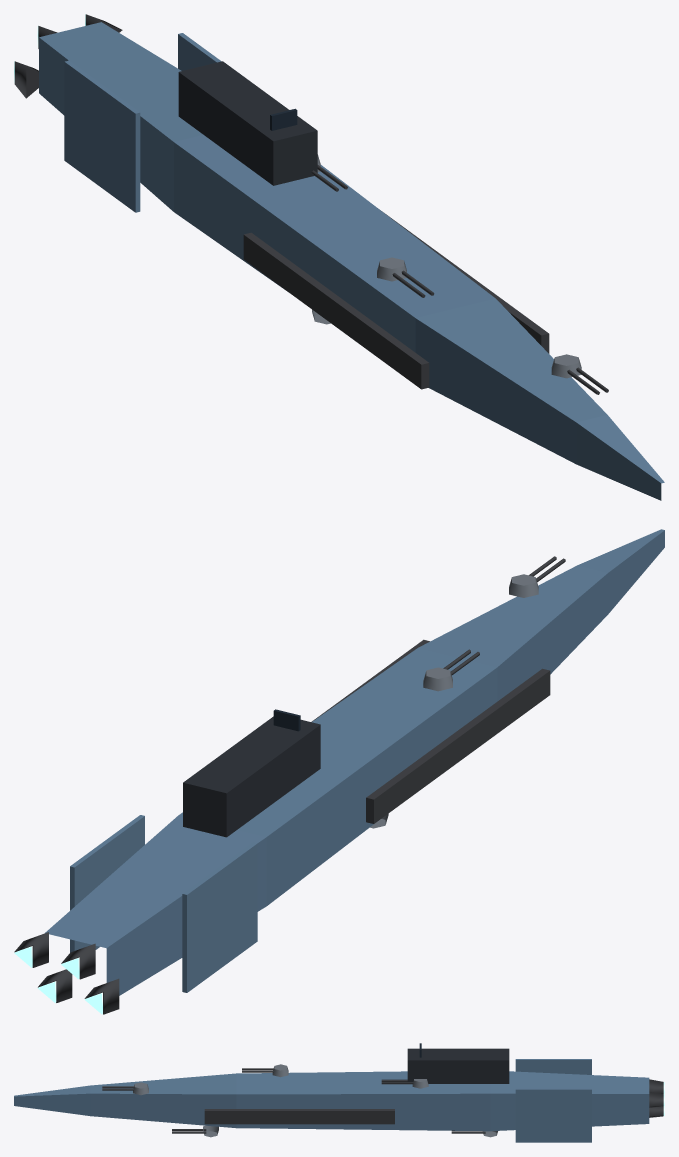
File: space_ship_destroyer_mk5_lod2.glb
3 views of the same model, one above another, from view 1: azimuth 30°, elevation 25°; view 2: azimuth 150°, elevation 25°; view 3: azimuth 270°, elevation 25° (orthographic). The views are drawn at different scales.
Visible parts, largest first — view 1: body, turret_0, turret_2; view 2: body, turret_0, turret_2, engine_0, engine_1, engine_3, engine_2; view 3: body, turret_0, turret_2, turret_1, turret_4, engine_3, engine_1, turret_5.
Part boxes in pixels (<box>): body: <box>39,22,664,500</box>; turret_0: <box>551,354,608,394</box>; turret_2: <box>377,257,434,297</box>; body: <box>45,529,664,995</box>; turret_0: <box>509,556,565,597</box>; turret_2: <box>423,649,479,691</box>; engine_0: <box>84,978,119,1014</box>; engine_1: <box>61,943,95,979</box>; engine_3: <box>14,932,48,967</box>; engine_2: <box>37,969,72,1002</box>; body: <box>14,1043,649,1142</box>; turret_0: <box>102,1082,148,1095</box>; turret_2: <box>242,1064,288,1077</box>; turret_1: <box>172,1125,218,1137</box>; turret_4: <box>381,1079,428,1088</box>; engine_3: <box>649,1091,664,1107</box>; engine_1: <box>649,1079,664,1094</box>; turret_5: <box>451,1130,497,1137</box>.
Size of the model in its own units: 8.1 by 9.28 by 66.74.
